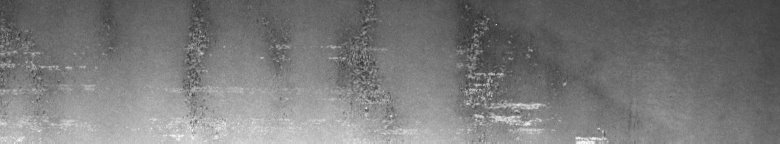hc: (456, 5, 604, 133)
